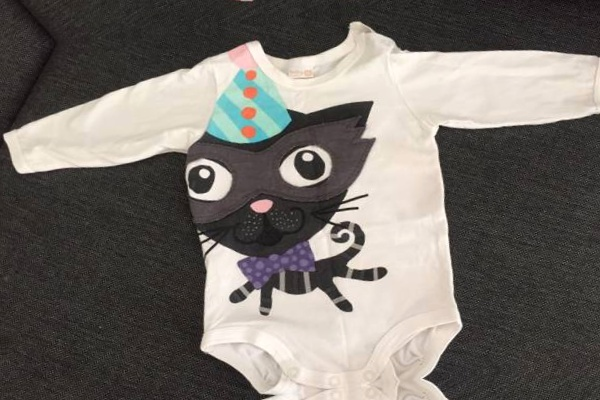Body: (0, 0, 600, 400), (26, 360, 600, 400), (0, 0, 594, 36)
